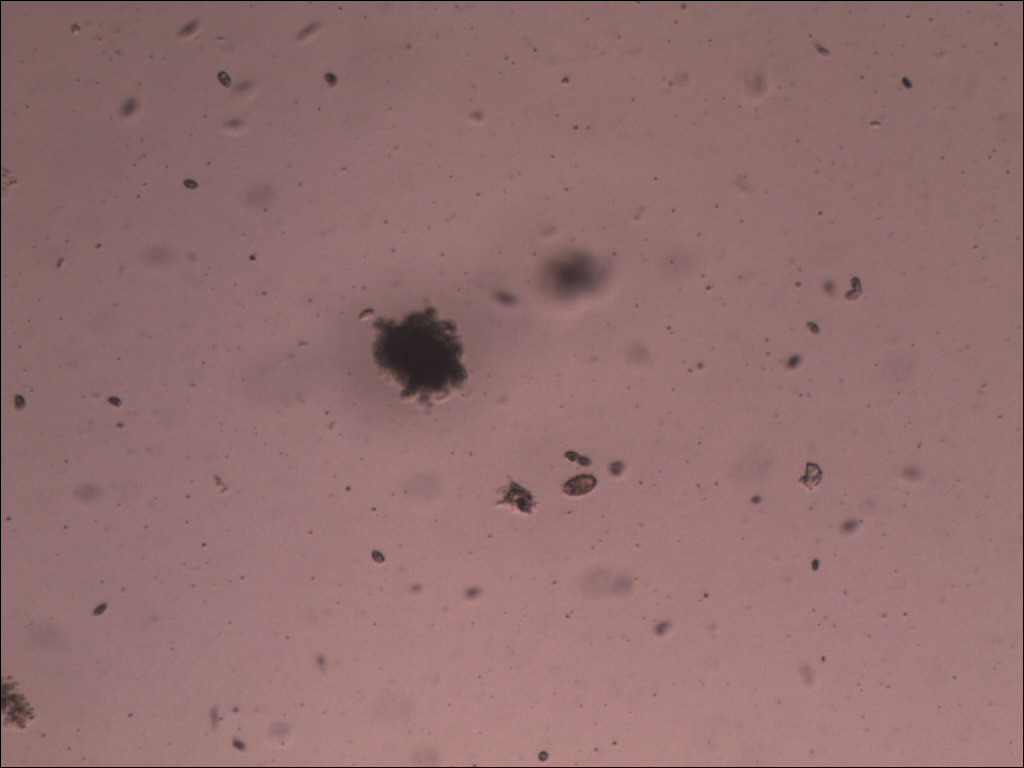amoeba: (357, 295, 485, 414), (480, 470, 554, 527)
